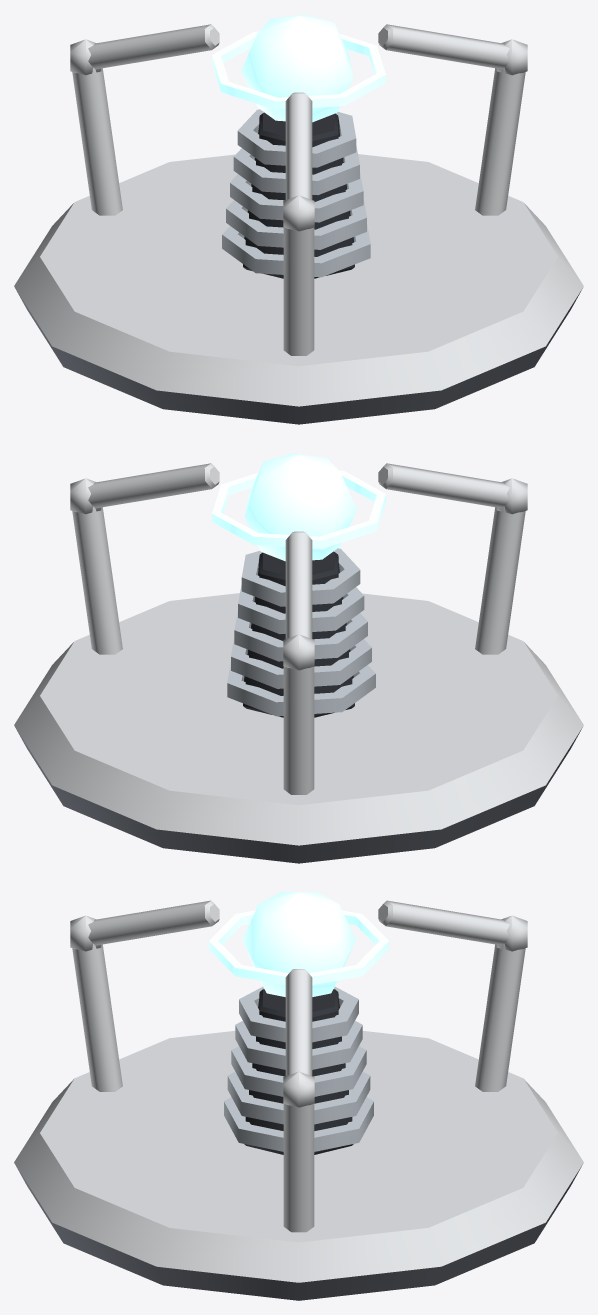
Rendered from R4D_EMPTrap_LOD1.fbx.
3 renders of one model, top to bottom at view 1: azimuth 30°, elevation 25°; view 2: azimuth 150°, elevation 25°; view 3: azimuth 270°, elevation 25°, orthographic.
Parts seen in each view (by area): view 1: R4D_EMPTrap_LOD1; view 2: R4D_EMPTrap_LOD1; view 3: R4D_EMPTrap_LOD1.
Part boxes in pixels (bbox=[...]): R4D_EMPTrap_LOD1: bbox=[14, 14, 583, 424]; R4D_EMPTrap_LOD1: bbox=[14, 453, 583, 863]; R4D_EMPTrap_LOD1: bbox=[14, 892, 583, 1300].
Size of the model in its own units: 0.44 by 0.25 by 0.44.
